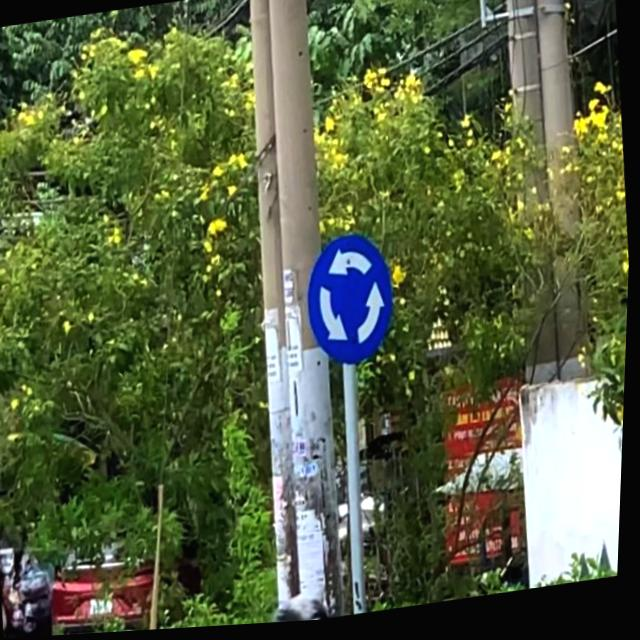Noi giao nhau chay theo vong xuyen: (302, 229, 403, 378)
